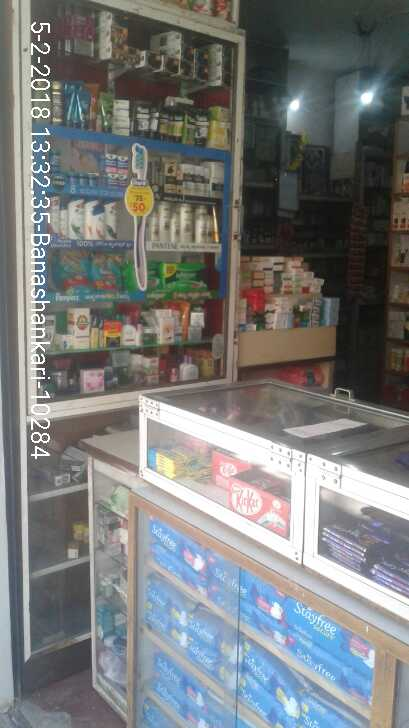beauty: (67, 196, 85, 237), (209, 161, 226, 200), (181, 203, 195, 245), (158, 200, 171, 242), (162, 159, 176, 197), (180, 164, 194, 196), (93, 205, 105, 239), (196, 213, 209, 244), (195, 166, 204, 196)
pharmacy: (163, 262, 206, 292), (90, 249, 123, 278), (105, 198, 118, 239), (106, 171, 118, 189), (105, 153, 116, 171), (119, 174, 129, 193), (118, 156, 129, 172)
